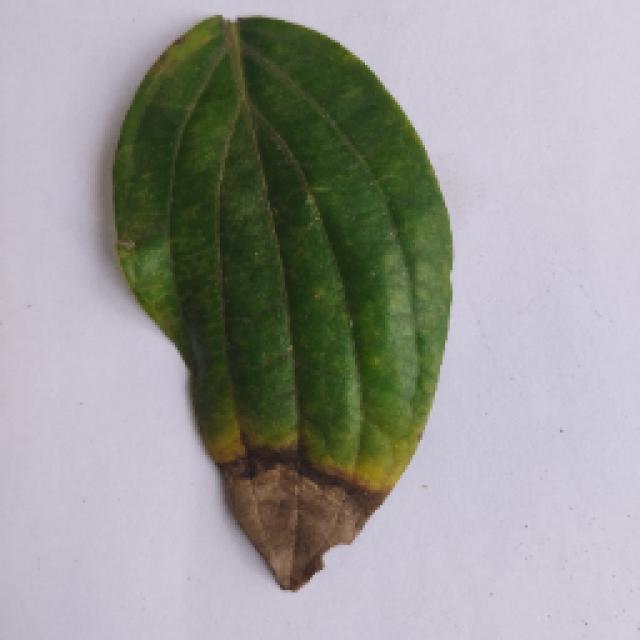footrot: (105, 15, 453, 593)
